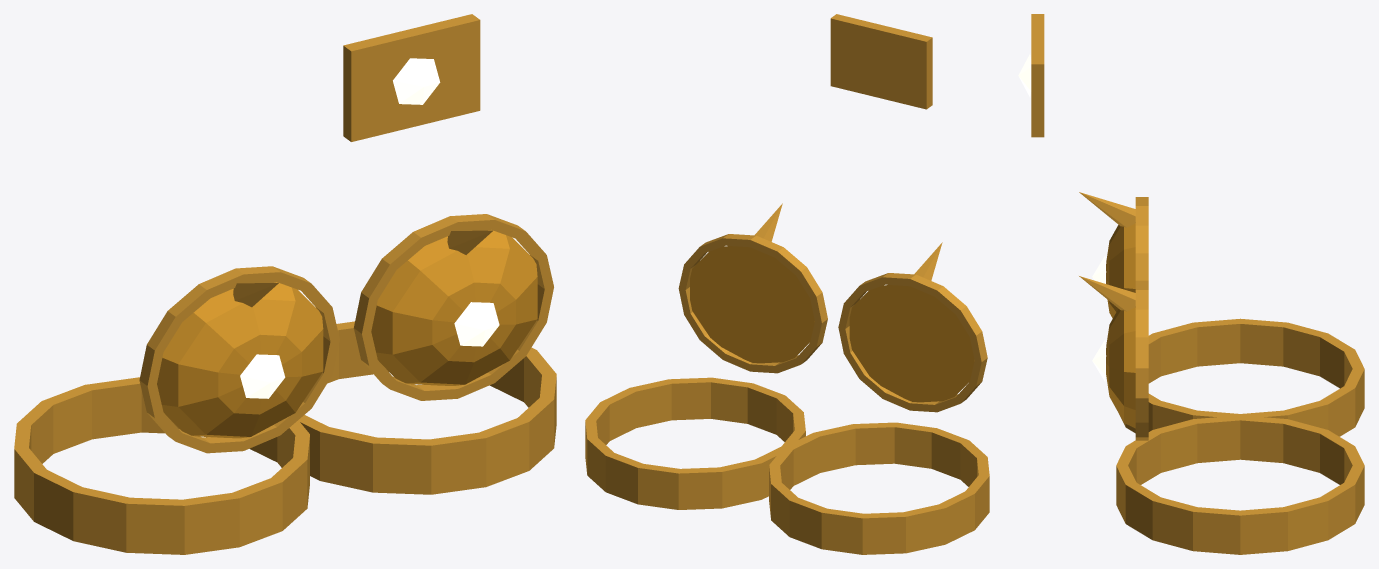
Rendered from armor_knight_legs_legendary_orc.glb.
The picture shows the model from 3 angles, left to right: view 1: azimuth 30°, elevation 25°; view 2: azimuth 150°, elevation 25°; view 3: azimuth 270°, elevation 25°; orthographic projection. The views are drawn at different scales.
Parts seen in each view (by area): view 1: armor_knight_legs_legendary_orc__calf_r, armor_knight_legs_legendary_orc__calf_l, armor_knight_legs_legendary_orc__pelvis; view 2: armor_knight_legs_legendary_orc__calf_r, armor_knight_legs_legendary_orc__calf_l, armor_knight_legs_legendary_orc__pelvis; view 3: armor_knight_legs_legendary_orc__calf_l, armor_knight_legs_legendary_orc__calf_r, armor_knight_legs_legendary_orc__pelvis.
Part boxes in pixels (bbox=[...]): armor_knight_legs_legendary_orc__calf_r: bbox=[14, 266, 339, 554]; armor_knight_legs_legendary_orc__calf_l: bbox=[298, 214, 556, 494]; armor_knight_legs_legendary_orc__pelvis: bbox=[343, 14, 480, 141]; armor_knight_legs_legendary_orc__calf_r: bbox=[769, 242, 989, 554]; armor_knight_legs_legendary_orc__calf_l: bbox=[585, 203, 827, 509]; armor_knight_legs_legendary_orc__pelvis: bbox=[830, 14, 932, 109]; armor_knight_legs_legendary_orc__calf_l: bbox=[1079, 276, 1364, 554]; armor_knight_legs_legendary_orc__calf_r: bbox=[1079, 192, 1364, 436]; armor_knight_legs_legendary_orc__pelvis: bbox=[1018, 14, 1044, 137].
Bounding box in the file's own units: 42.88 × 42.4 × 31.89.
